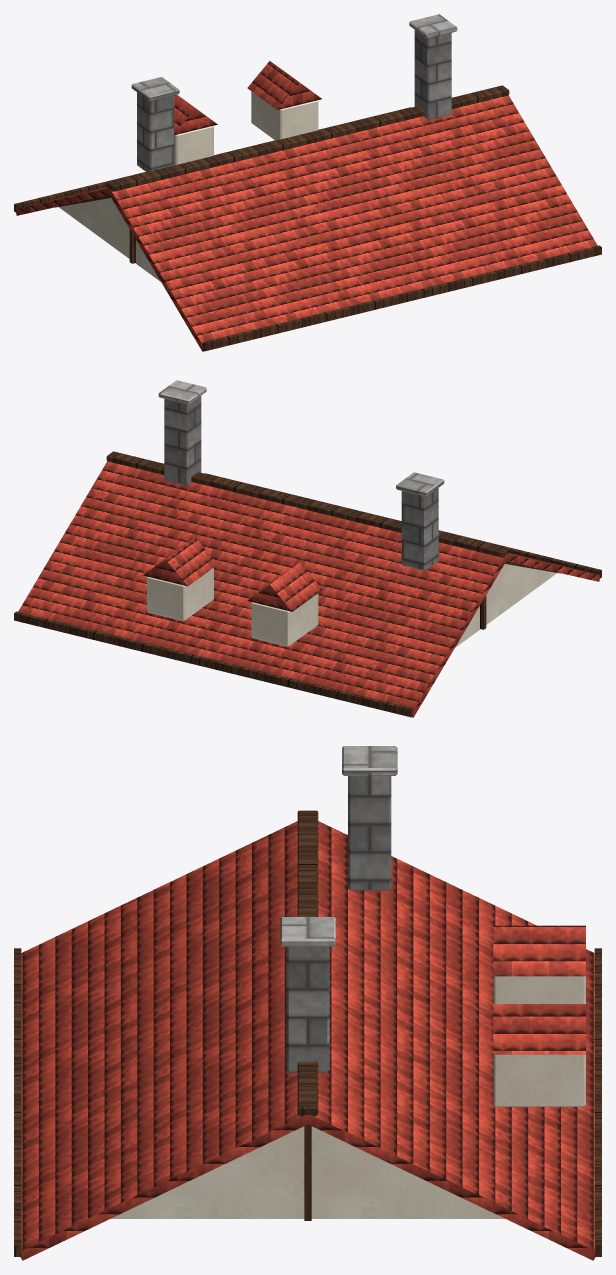
File: roof_inn.glb
3 renders of one model, top to bottom at view 1: azimuth 30°, elevation 25°; view 2: azimuth 150°, elevation 25°; view 3: azimuth 270°, elevation 25°, orthographic. The views are drawn at different scales.
Parts seen in each view (by area): view 1: roof_inn; view 2: roof_inn; view 3: roof_inn.
Boxes of the visible parts, <box> form: roof_inn: <box>14,14,601,351</box>; roof_inn: <box>14,380,601,717</box>; roof_inn: <box>14,746,601,1260</box>.
Size of the model in its own units: 11.4 by 4.97 by 9.52.
Materials: 5 (5 with a texture image).
